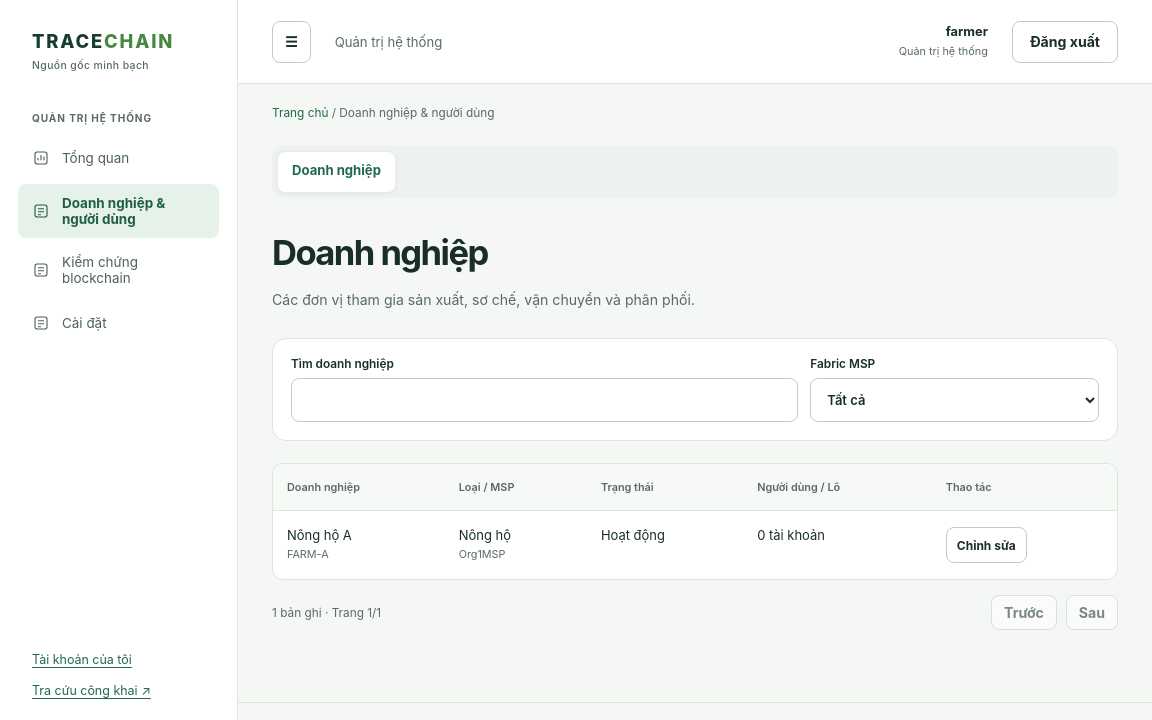
Test: allows organization status edits only with the disable permission (allowed: false)
Click the button "Chỉnh sửa" at (986, 545), box [946,527,1027,563]
(page scrolled)
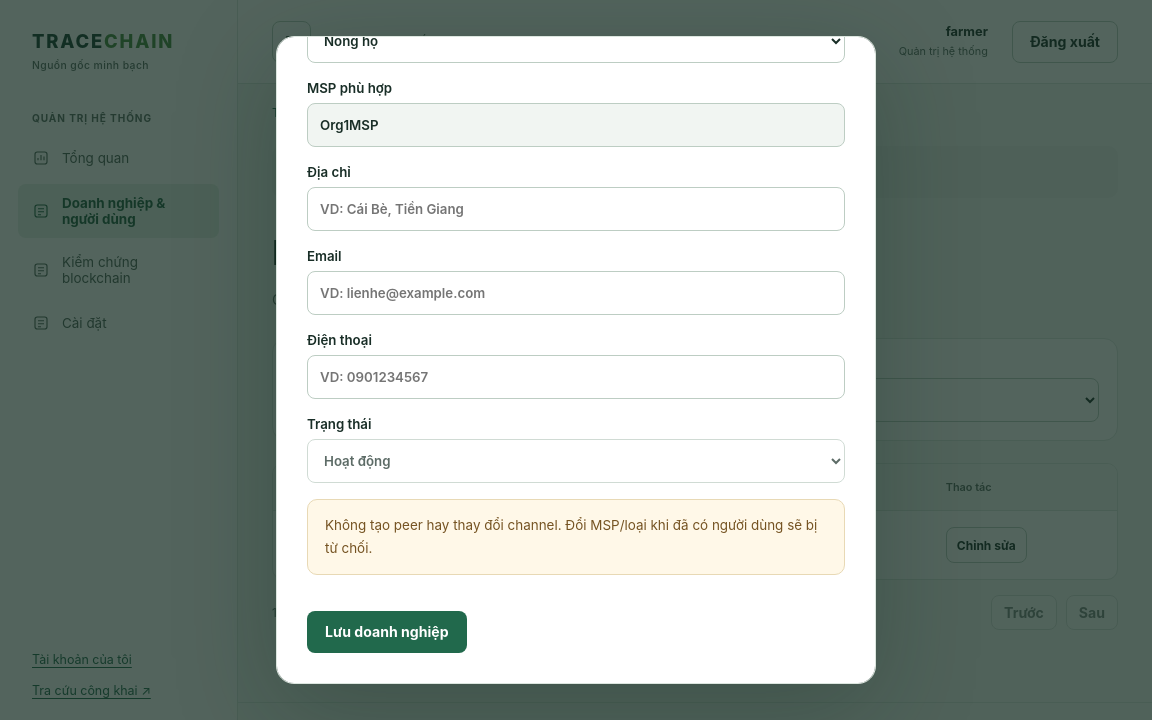
Now the dropdown labelled "Trạng thái" is disabled, box [307,439,845,483]
